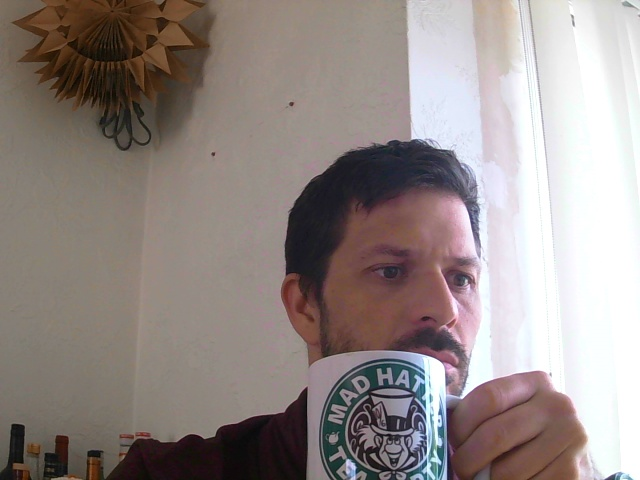mug: (305, 353, 450, 480)
